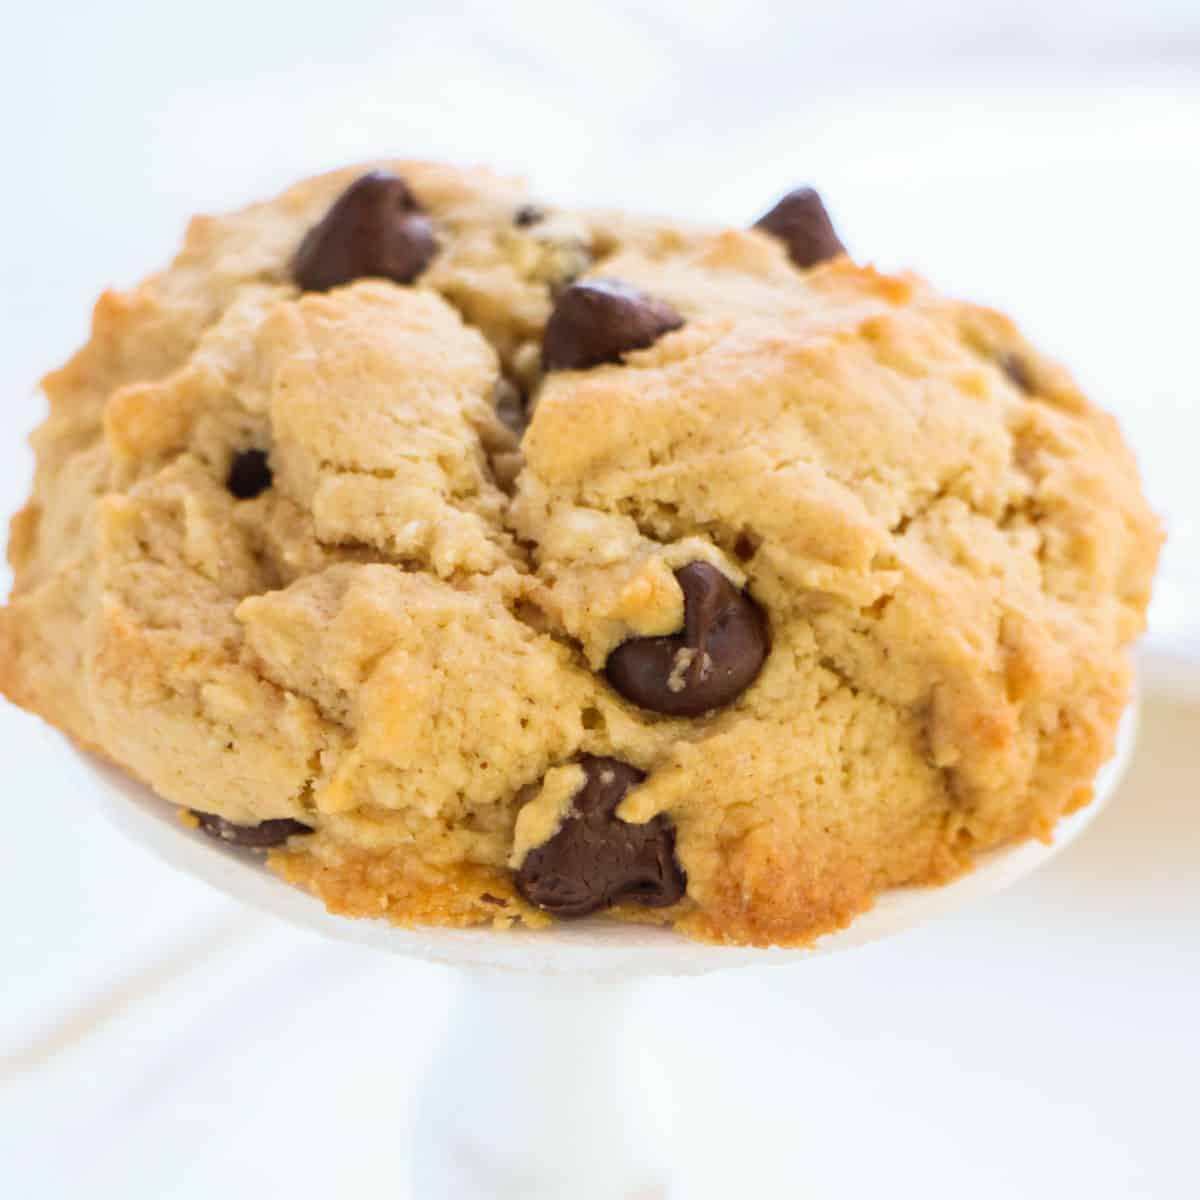cookie: (0, 124, 1175, 969)
